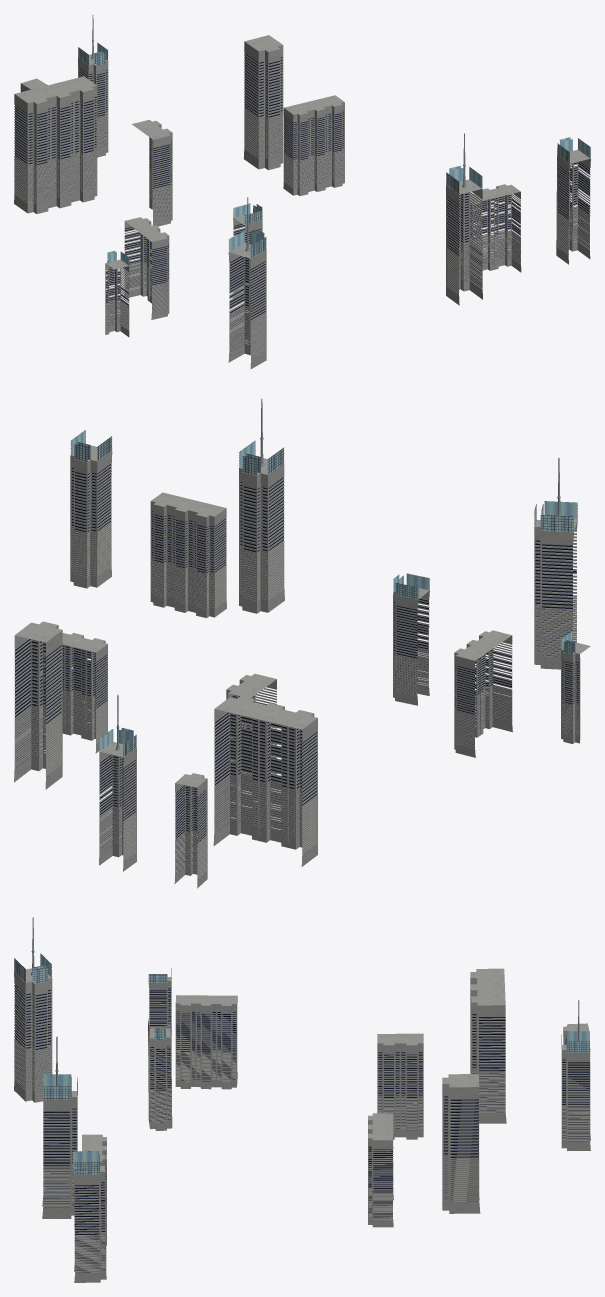
File: New_York_track_building_city_01.dae
3 renders of one model, top to bottom at view 1: azimuth 30°, elevation 25°; view 2: azimuth 150°, elevation 25°; view 3: azimuth 270°, elevation 25°, orthographic. The views are drawn at different scales.
Visible parts, largest first — view 1: Building_city_01_04, Building_city_01_10, Building_city_01_11, Building_city_01_02, Building_city_01_01, Building_city_01_09, Building_city_01_05, Building_city_01_13, Building_city_01_03, Building_city_01_06, Building_city_01_12, Building_city_01_08; view 2: Building_city_01_04, Building_city_01_13, Building_city_01_01, Building_city_01_11, Building_city_01_02, Building_city_01_09, Building_city_01_05, Building_city_01_12, Building_city_01_10, Building_city_01_08, Building_city_01_07, Building_city_01_06 (+1 smaller); view 3: Building_city_01_05, Building_city_01_11, Building_city_01_02, Building_city_01_04, Building_city_01_01, Building_city_01_03, Building_city_01_09, Building_city_01_12, Building_city_01_10, Building_city_01_08, Building_city_01_06, Building_city_01_13.
Part boxes in pixels (<box>): Building_city_01_04: <box>14,76,97,213</box>; Building_city_01_10: <box>283,95,344,195</box>; Building_city_01_11: <box>244,35,283,170</box>; Building_city_01_02: <box>228,197,266,368</box>; Building_city_01_01: <box>446,133,482,305</box>; Building_city_01_09: <box>556,137,590,264</box>; Building_city_01_05: <box>124,217,169,319</box>; Building_city_01_13: <box>470,184,521,272</box>; Building_city_01_03: <box>132,119,172,226</box>; Building_city_01_06: <box>105,250,129,337</box>; Building_city_01_12: <box>78,15,108,157</box>; Building_city_01_08: <box>232,203,262,298</box>; Building_city_01_04: <box>213,696,317,866</box>; Building_city_01_13: <box>150,492,226,617</box>; Building_city_01_01: <box>239,398,284,613</box>; Building_city_01_11: <box>14,621,62,789</box>; Building_city_01_02: <box>534,458,577,669</box>; Building_city_01_09: <box>70,430,112,588</box>; Building_city_01_05: <box>454,630,512,757</box>; Building_city_01_12: <box>99,694,136,871</box>; Building_city_01_10: <box>40,633,107,753</box>; Building_city_01_08: <box>393,573,429,705</box>; Building_city_01_07: <box>174,773,207,888</box>; Building_city_01_06: <box>561,631,590,743</box>; Building_city_01_05: <box>175,995,237,1089</box>; Building_city_01_11: <box>442,1074,480,1213</box>; Building_city_01_02: <box>14,917,52,1102</box>; Building_city_01_04: <box>470,968,506,1123</box>; Building_city_01_01: <box>42,1036,77,1218</box>; Building_city_01_03: <box>377,1033,423,1139</box>; Building_city_01_09: <box>73,1151,106,1282</box>; Building_city_01_12: <box>561,1000,590,1150</box>; Building_city_01_10: <box>368,1113,393,1227</box>; Building_city_01_08: <box>148,1018,172,1130</box>; Building_city_01_06: <box>148,968,171,1041</box>; Building_city_01_13: <box>82,1134,106,1245</box>.
Bounding box in the file's own units: 31.17 × 32.93 × 11.14.
5 materials, 5 textured.
